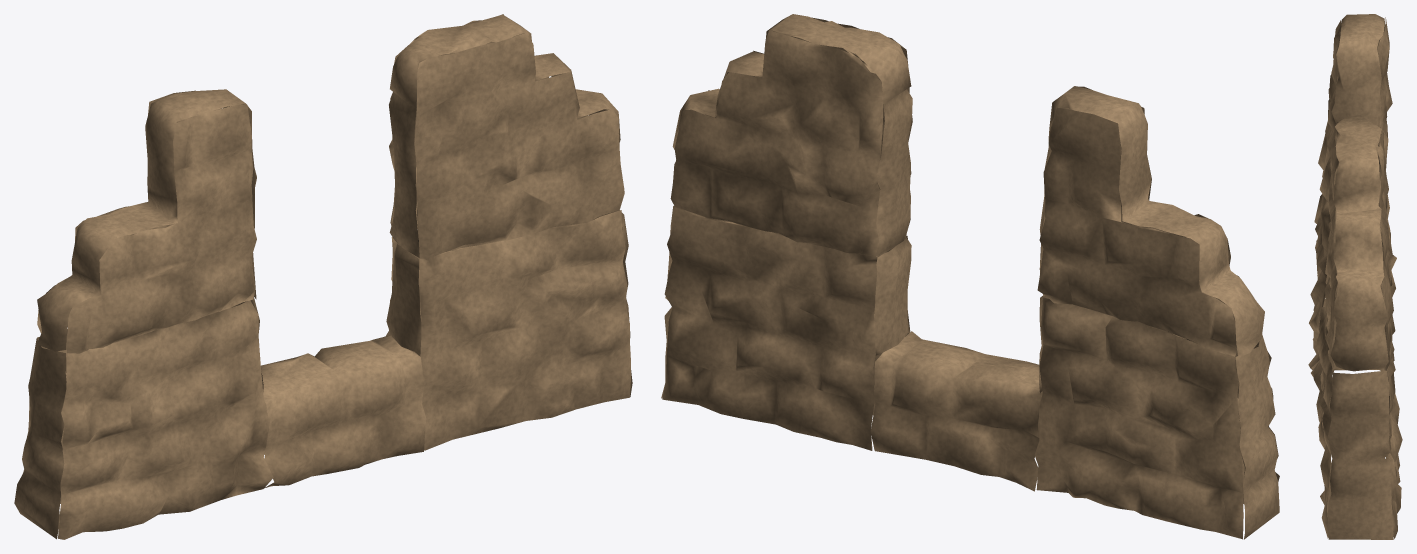
File: ruinwall.glb
The picture shows the model from 3 angles, left to right: view 1: azimuth 30°, elevation 25°; view 2: azimuth 150°, elevation 25°; view 3: azimuth 270°, elevation 25°; orthographic projection. The views are drawn at different scales.
Visible parts, largest first — view 1: Stone Ruin Wall; view 2: Stone Ruin Wall; view 3: Stone Ruin Wall.
Boxes of the visible parts, <box> form: Stone Ruin Wall: <box>14,14,632,539</box>; Stone Ruin Wall: <box>661,14,1279,539</box>; Stone Ruin Wall: <box>1308,14,1402,539</box>.
Bounding box in the file's own units: 4.04 × 2.59 × 0.6447.
1 material, 1 textured.
